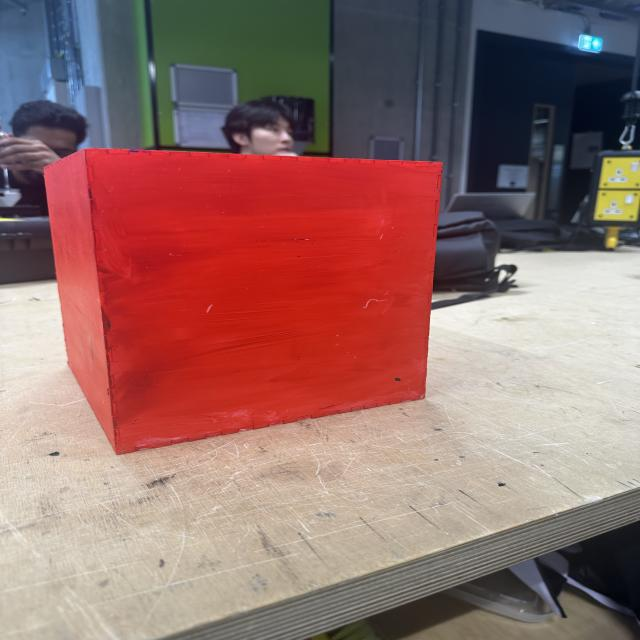red_bin: (42, 148, 444, 457)
